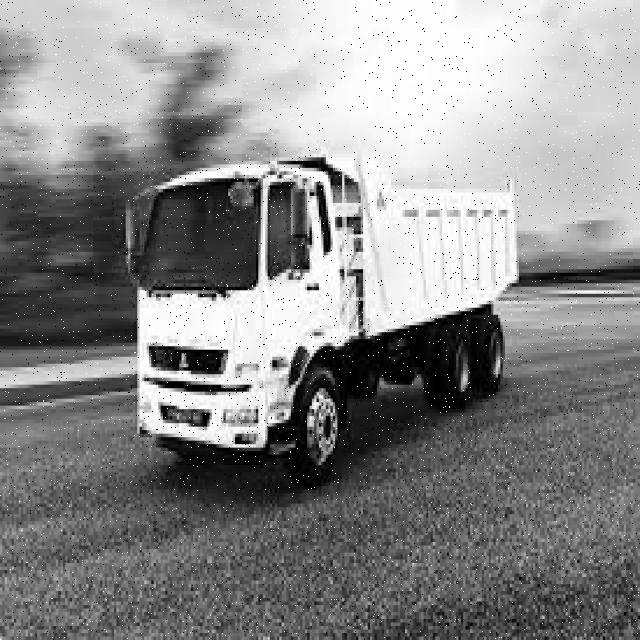Box Truck: (124, 156, 522, 490)
